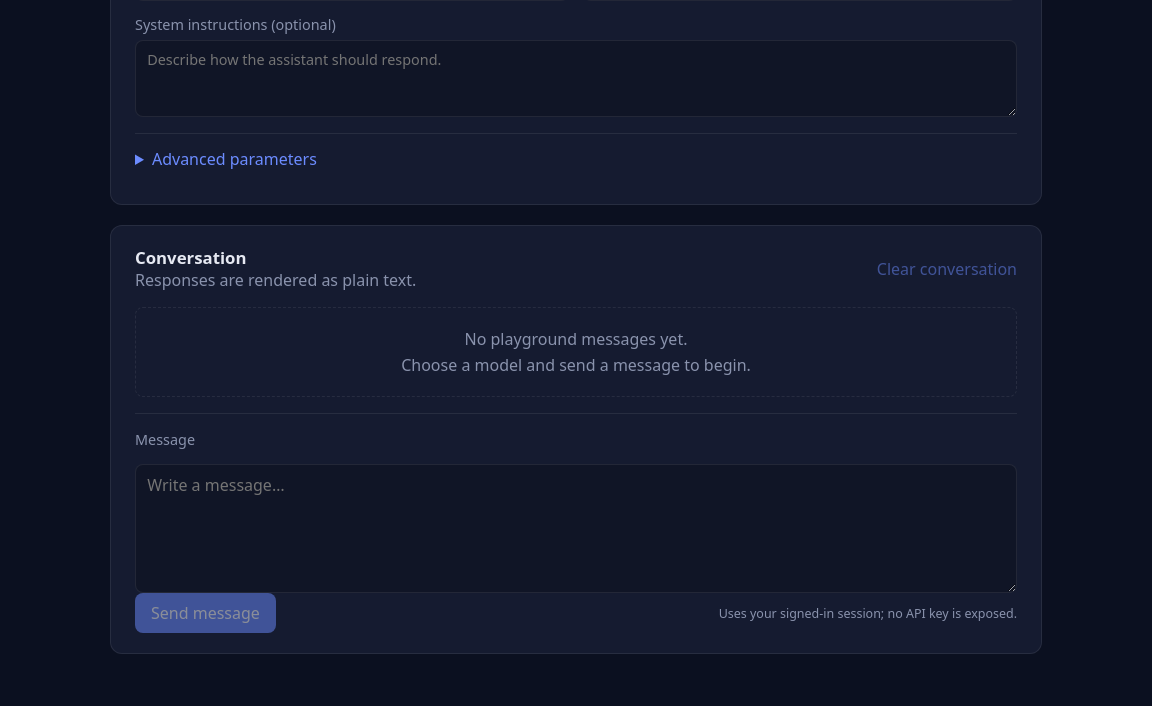
Scenario: PlaygroundView › stops an in-flight generation, aborts transport, and rejects late state updates
(page scrolled)
Type "Long request" into the text box labelled "Message". click: (576, 528)
box: [135, 464, 1017, 593]
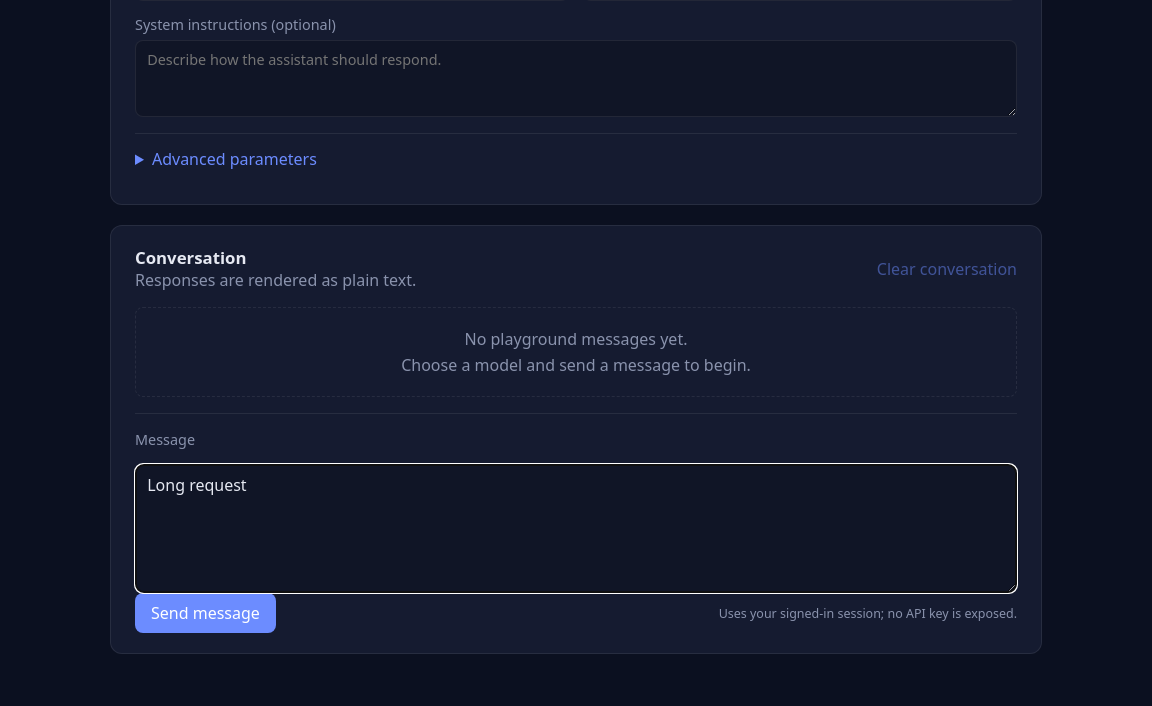
Click the button "Send message". click: (205, 613)
box: [135, 593, 276, 633]
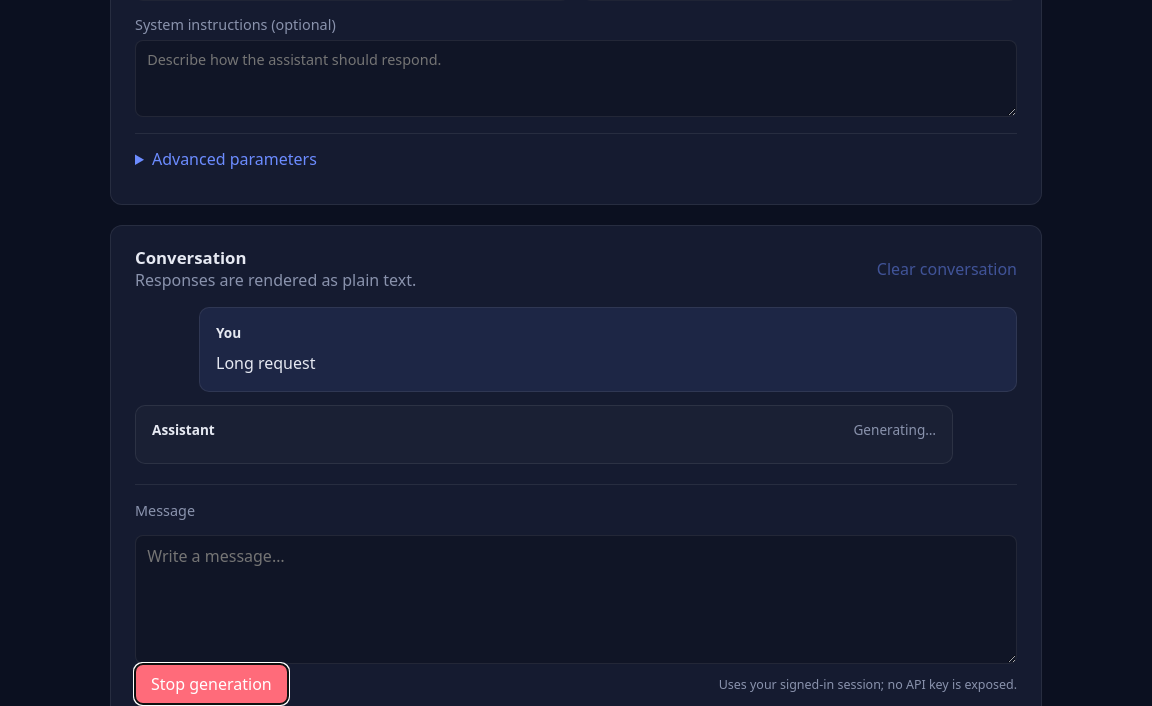
Click the button "Stop generation". click: (211, 684)
box: [135, 664, 288, 704]
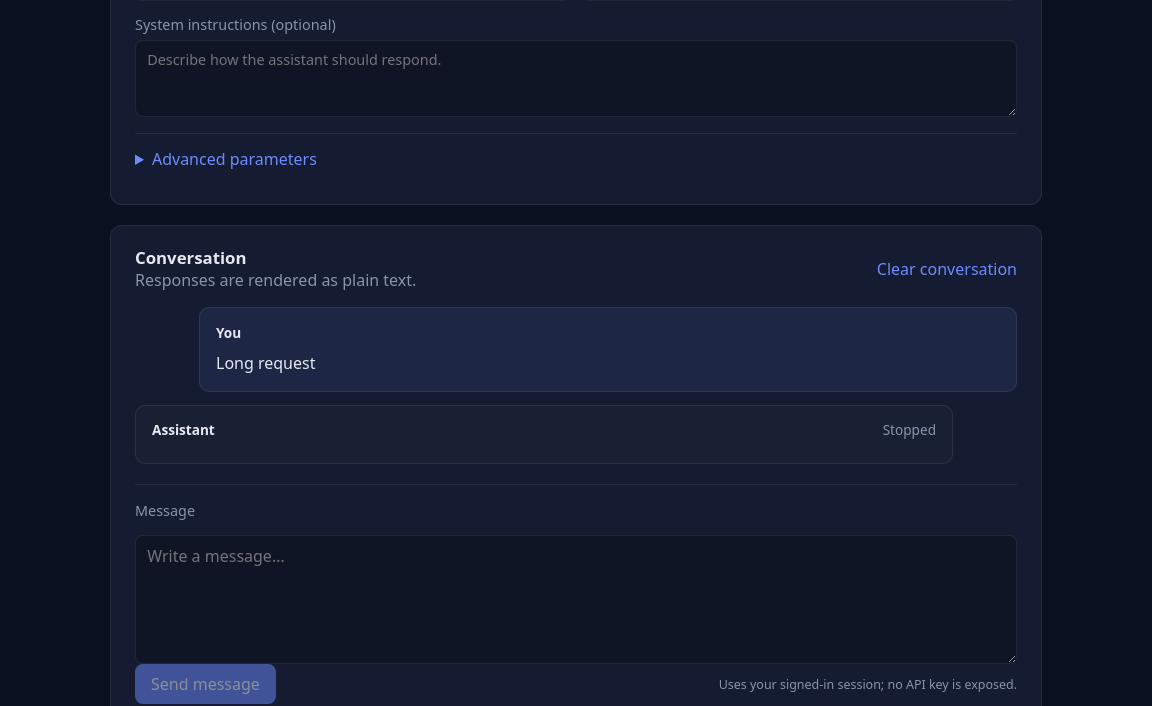
Expected: the text "Stopped" is shown, [883, 420, 936, 440]
Expected: the button "Send message" is shown, [135, 664, 276, 704]
